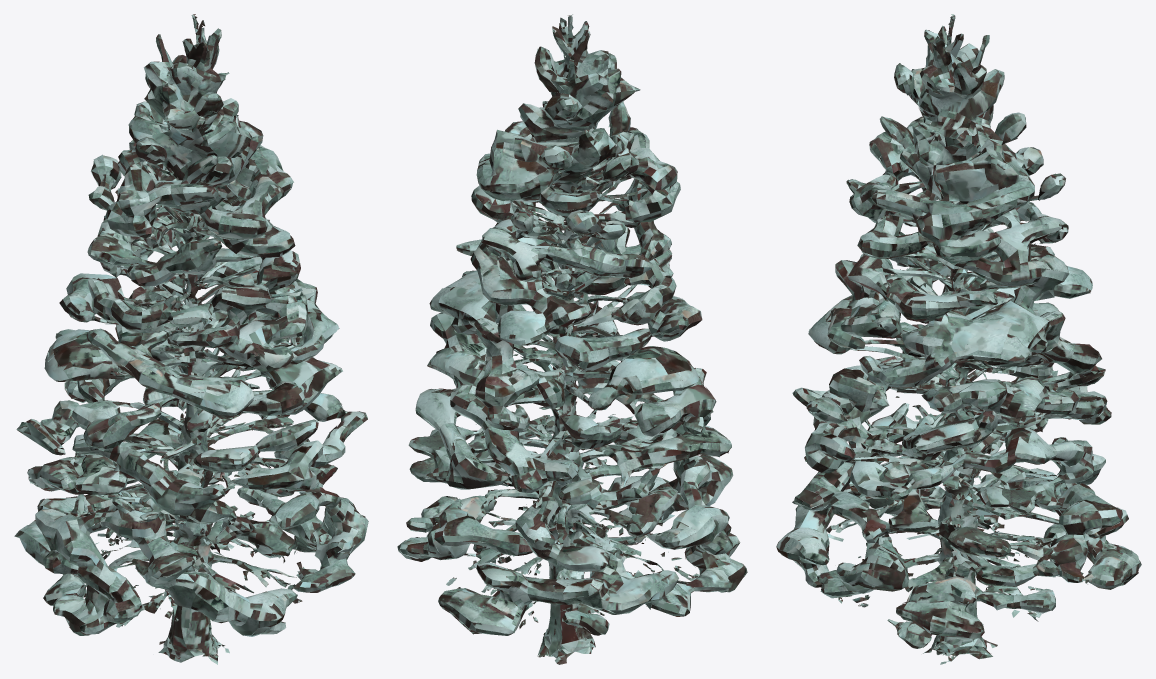
File: veg_conifer_cedar_01.obj
The picture shows the model from 3 angles, left to right: view 1: azimuth 30°, elevation 25°; view 2: azimuth 150°, elevation 25°; view 3: azimuth 270°, elevation 25°; orthographic projection.
Parts seen in each view (by area): view 1: veg_conifer_cedar_01; view 2: veg_conifer_cedar_01; view 3: veg_conifer_cedar_01.
Boxes of the visible parts, left/top/right/bottom form: veg_conifer_cedar_01: left=14, top=14, right=368, bottom=664; veg_conifer_cedar_01: left=397, top=14, right=747, bottom=664; veg_conifer_cedar_01: left=776, top=14, right=1141, bottom=664.
Bounding box in the file's own units: 9.48 × 19.19 × 10.
Materials: 1 (1 with a texture image).
